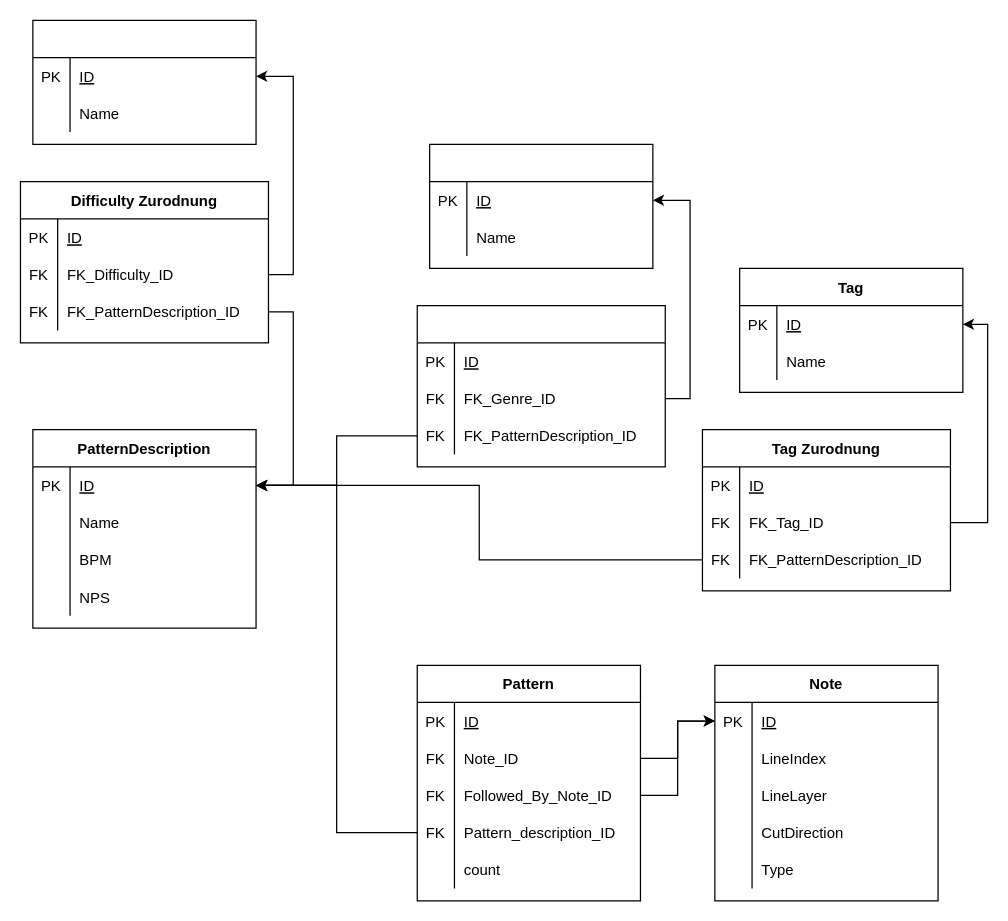
Some shapes in this 1008 by 921 pixel diagram are drawn without their labels. The shapes that lost their labels are listed below. From the top down, each one's box as (x1, y1, x2, y2) in pixels, then its label:
(32, 19, 256, 144): Difficulty
(428, 143, 653, 268): Genre
(416, 304, 665, 467): Genre Zurodnung
